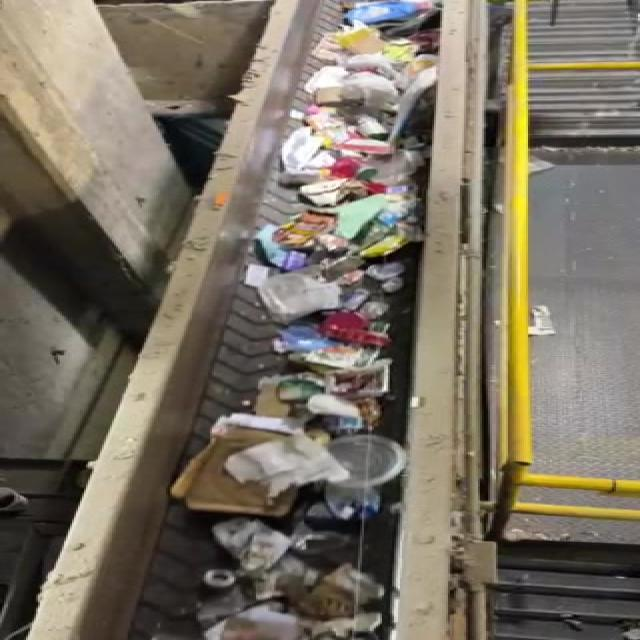metal: (187, 560, 253, 614)
paper: (175, 405, 317, 525), (278, 561, 396, 640)
pp: (320, 431, 413, 498), (304, 361, 441, 406)
